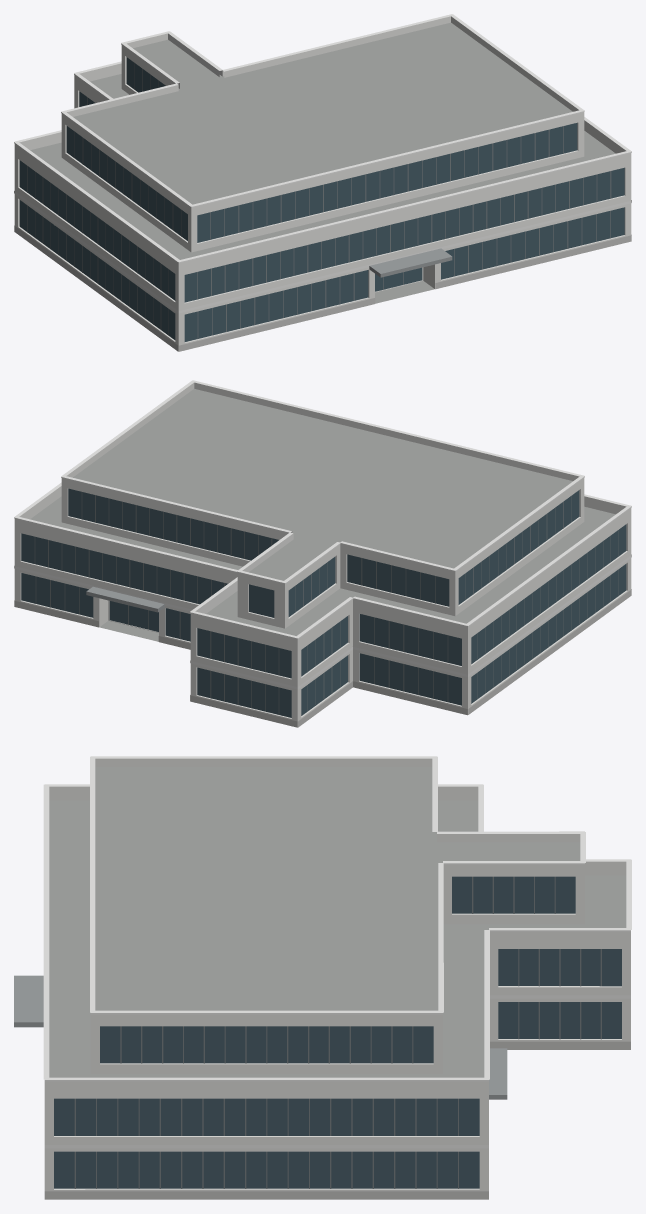
3 views of the same model, one above another, from view 1: azimuth 30°, elevation 25°; view 2: azimuth 150°, elevation 25°; view 3: azimuth 270°, elevation 25° (orthographic). The views are drawn at different scales.
Parts seen in each view (by area): view 1: mainHall__roof, mainHall__glass, mainHall__wall, mainHall__parapet, mainHall__trim, mainHall__frame, mainHall__base, mainHall__canopy; view 2: mainHall__roof, mainHall__glass, mainHall__wall, mainHall__parapet, mainHall__trim, mainHall__frame, mainHall__base, mainHall__canopy; view 3: mainHall__roof, mainHall__glass, mainHall__wall, mainHall__parapet, mainHall__trim, mainHall__base, mainHall__frame, mainHall__canopy.
Boxes of the visible parts, bbox=[...] form: mainHall__roof: bbox=[30, 22, 615, 303]; mainHall__glass: bbox=[19, 57, 624, 341]; mainHall__wall: bbox=[14, 50, 631, 351]; mainHall__parapet: bbox=[14, 16, 631, 272]; mainHall__trim: bbox=[14, 14, 631, 313]; mainHall__frame: bbox=[27, 63, 611, 338]; mainHall__base: bbox=[14, 225, 631, 351]; mainHall__canopy: bbox=[369, 248, 452, 277]; mainHall__roof: bbox=[30, 388, 615, 641]; mainHall__glass: bbox=[21, 488, 626, 717]; mainHall__wall: bbox=[14, 482, 631, 727]; mainHall__parapet: bbox=[14, 382, 631, 648]; mainHall__trim: bbox=[14, 380, 631, 689]; mainHall__frame: bbox=[34, 492, 618, 714]; mainHall__base: bbox=[14, 589, 631, 727]; mainHall__canopy: bbox=[86, 586, 164, 612]; mainHall__roof: bbox=[49, 767, 626, 1077]; mainHall__glass: bbox=[54, 876, 621, 1188]; mainHall__wall: bbox=[44, 871, 630, 1191]; mainHall__parapet: bbox=[44, 758, 630, 1093]; mainHall__trim: bbox=[43, 756, 631, 1148]; mainHall__base: bbox=[44, 1041, 630, 1199]; mainHall__frame: bbox=[74, 876, 601, 1188]; mainHall__canopy: bbox=[14, 975, 507, 1099].
Size of the model in its own units: 45.53 by 12 by 40.21.
